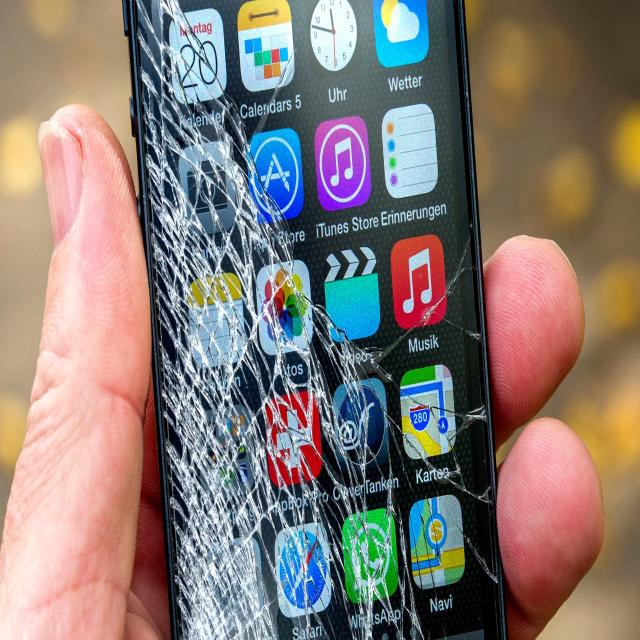phones: (124, 0, 506, 639)
